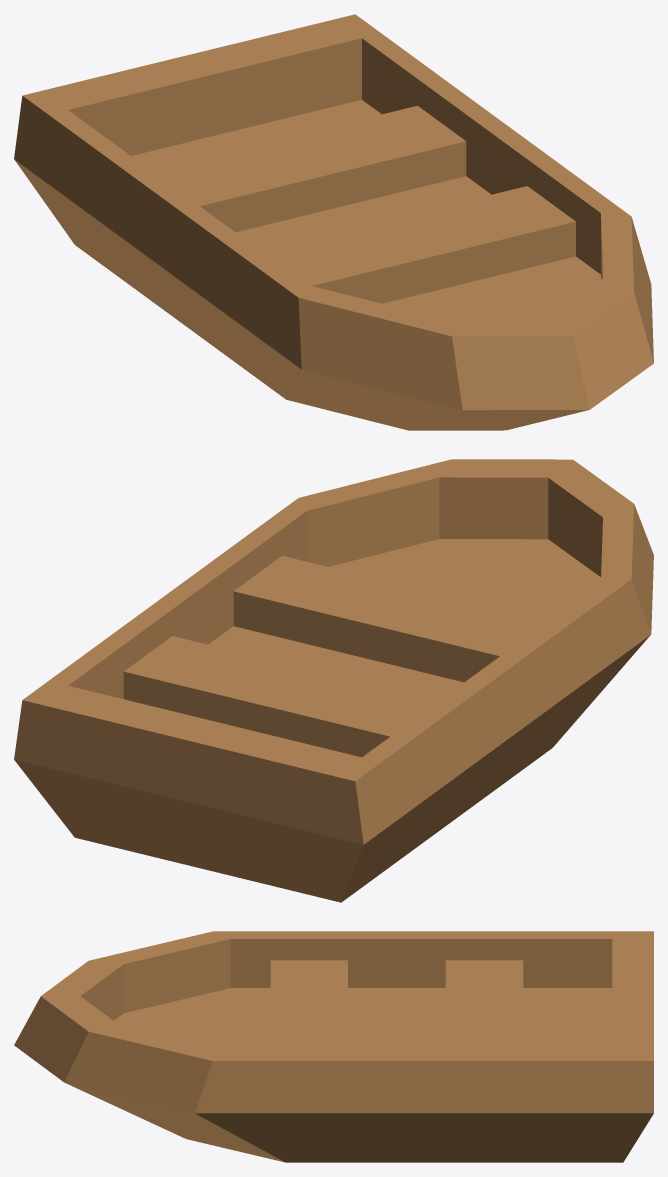
Rendered from watercraftpack_029.glb.
The picture shows the model from 3 angles, top to bottom: view 1: azimuth 30°, elevation 25°; view 2: azimuth 150°, elevation 25°; view 3: azimuth 270°, elevation 25°; orthographic projection. The views are drawn at different scales.
Visible parts, largest first — view 1: Mesh1 Group1 Model; view 2: Mesh1 Group1 Model; view 3: Mesh1 Group1 Model.
Boxes of the visible parts, x1,y1,x2,y2 form: Mesh1 Group1 Model: [14, 14, 653, 430]; Mesh1 Group1 Model: [14, 459, 653, 902]; Mesh1 Group1 Model: [14, 931, 653, 1162].
Bounding box in the file's own units: 1.78 × 0.7 × 3.55.
